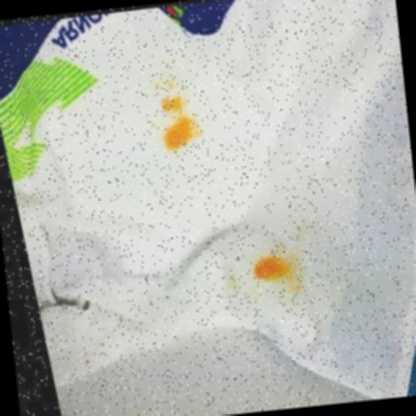kimchi: (250, 246, 299, 283), (162, 116, 195, 148), (161, 96, 188, 116), (153, 77, 174, 94), (291, 281, 311, 295), (152, 120, 156, 127)
